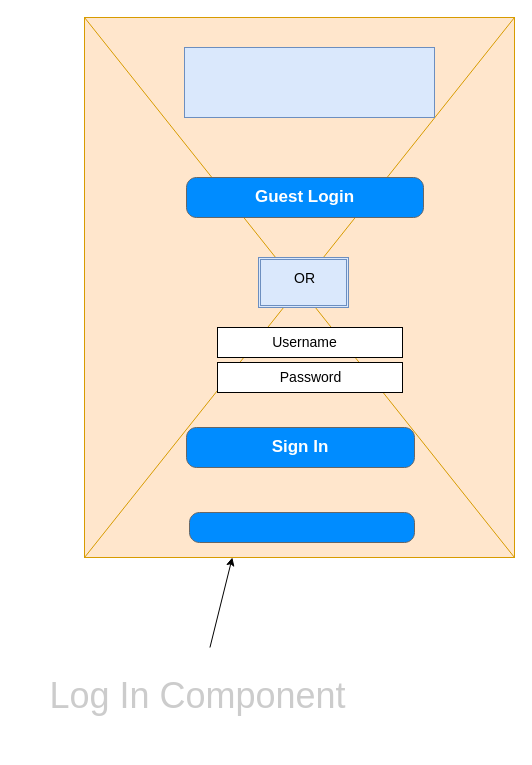
Some shapes in this 532 by 765 pixel diagram are drawn without their labels. The centre of each missing label's shape, as x and y in pixels:
"OnTap Logo" belongs at (x=309, y=82).
"Sign Up" belongs at (x=301, y=527).
